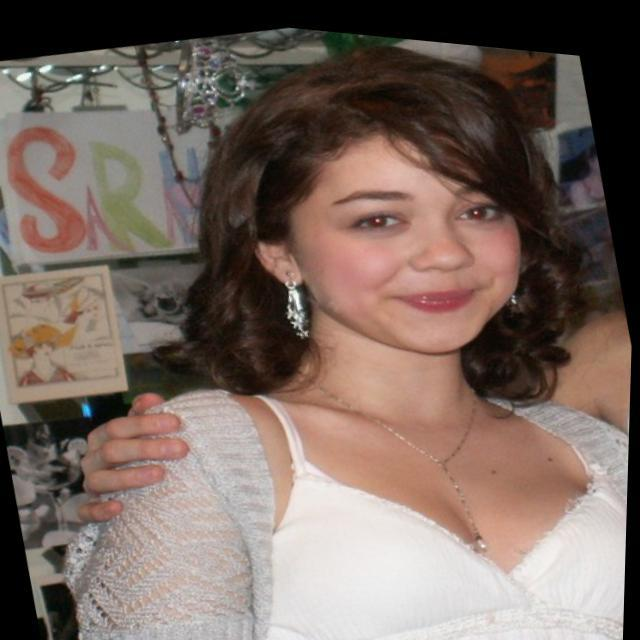Nonhelmet: (157, 44, 590, 405)
